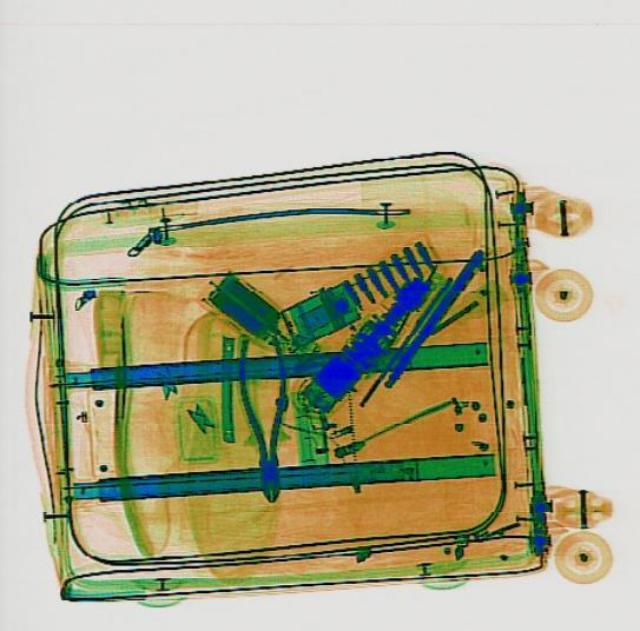Pliers: (234, 333, 292, 502)
